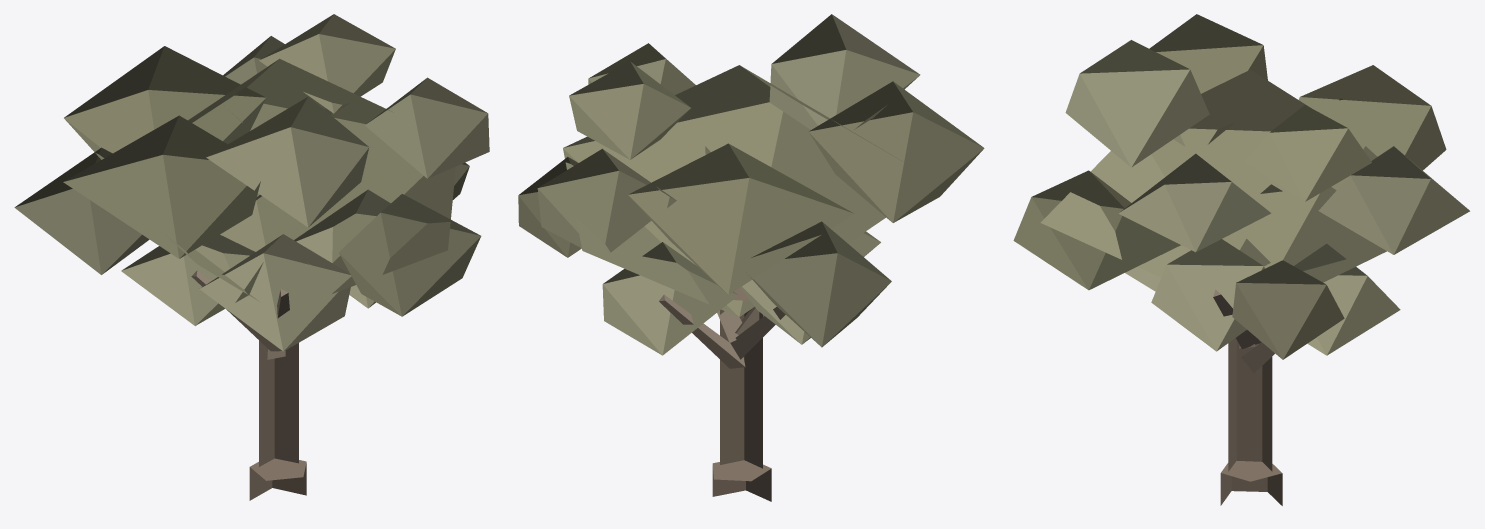
The model's file is tree.temp.plane_maple__winter.glb.
3 views of the same model, side by side, from view 1: azimuth 30°, elevation 25°; view 2: azimuth 150°, elevation 25°; view 3: azimuth 270°, elevation 25° (orthographic). The views are drawn at different scales.
Parts seen in each view (by area): view 1: tree.temp.plane_maple__winter; view 2: tree.temp.plane_maple__winter; view 3: tree.temp.plane_maple__winter.
Boxes of the visible parts, left/top/right/bottom form: tree.temp.plane_maple__winter: left=14, top=14, right=489, bottom=500; tree.temp.plane_maple__winter: left=518, top=14, right=984, bottom=501; tree.temp.plane_maple__winter: left=1013, top=14, right=1469, bottom=505.
Size of the model in its own units: 10.23 by 10.76 by 9.97.
